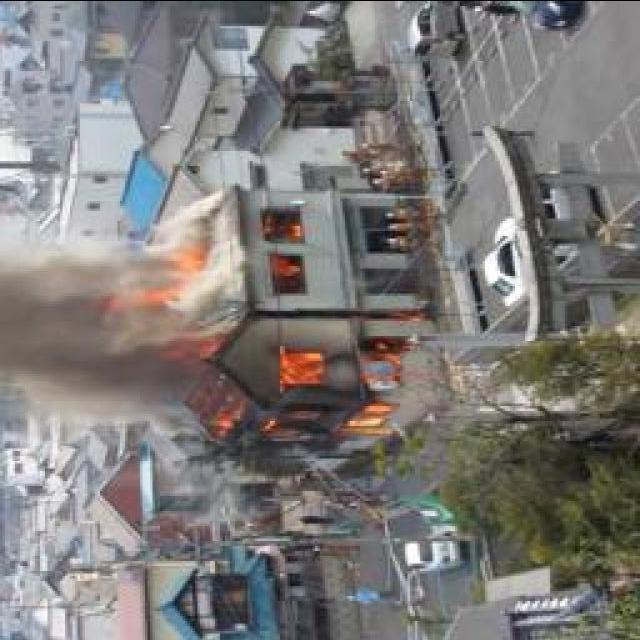Fire: (220, 339, 407, 438), (260, 205, 312, 293)
